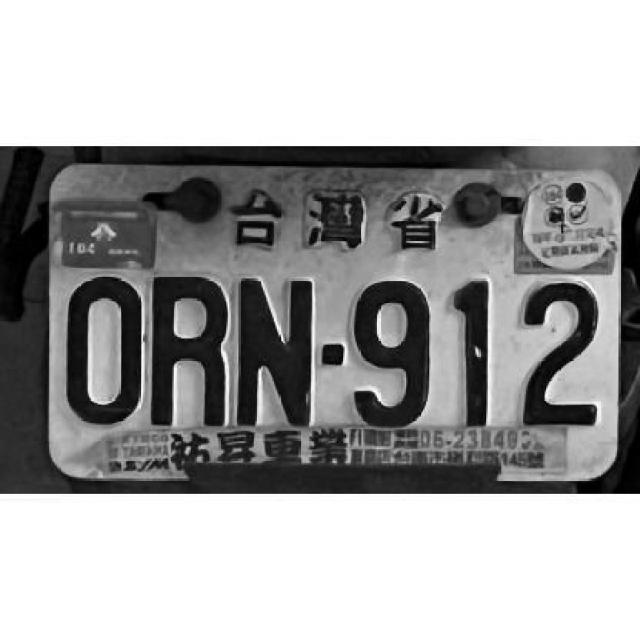-: (322, 345, 346, 366)
0: (63, 271, 145, 426)
1: (448, 275, 495, 434)
2: (516, 280, 602, 432)
9: (349, 278, 434, 429)
B: (149, 272, 229, 431)
N: (236, 280, 316, 426)
